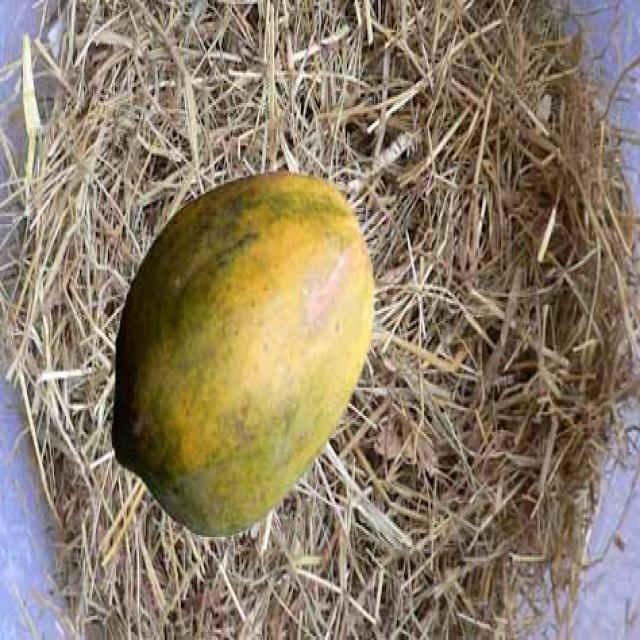Pepaya rippen: (98, 172, 393, 539)
